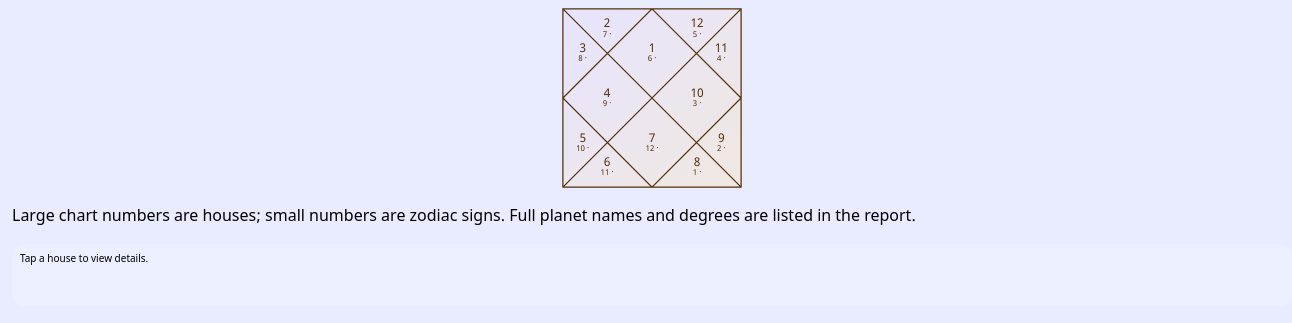
Test: shows a planet degree and retrograde marker in the selected house
The width and height of the screenshot is (1292, 323).
Click the button named "House 1" at (652, 53), box [635, 36, 669, 70]
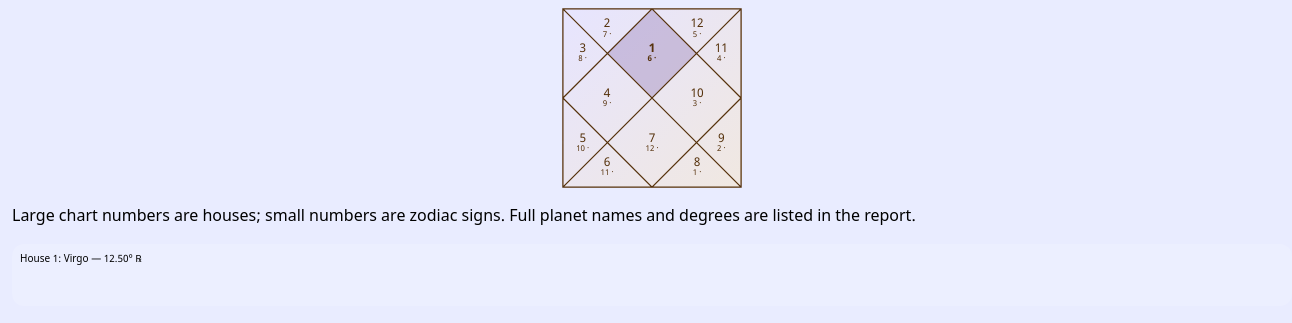
Expected: the text "House 1: Virgo — 12.50° ℞" is shown, [12, 244, 1291, 306]
